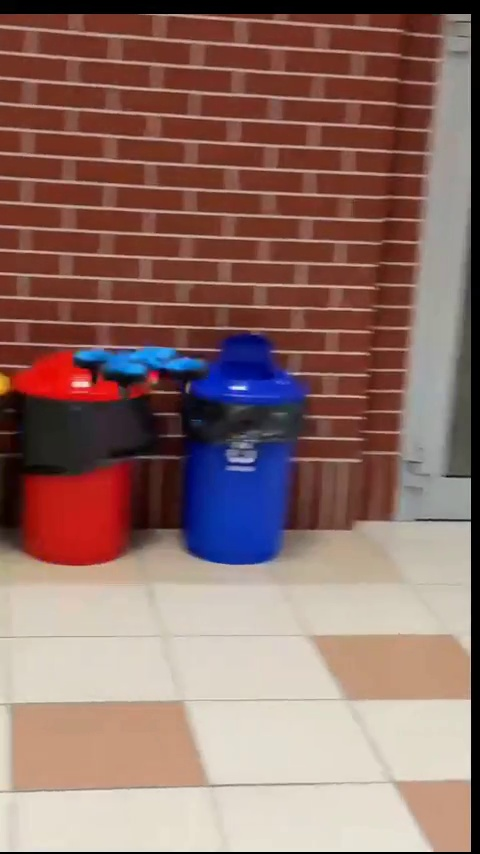drone: (68, 340, 207, 400)
